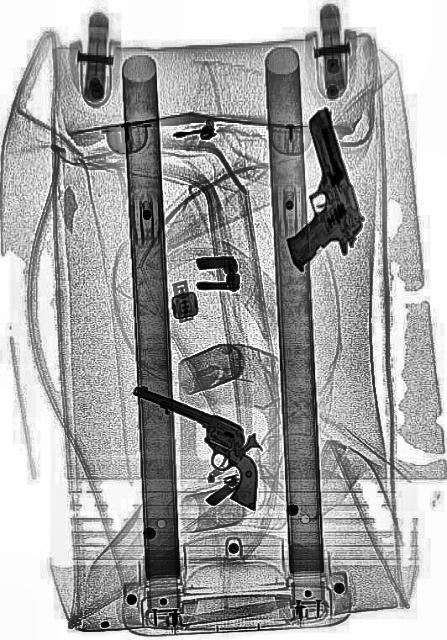Gun: (116, 380, 272, 510), (256, 103, 371, 279)
